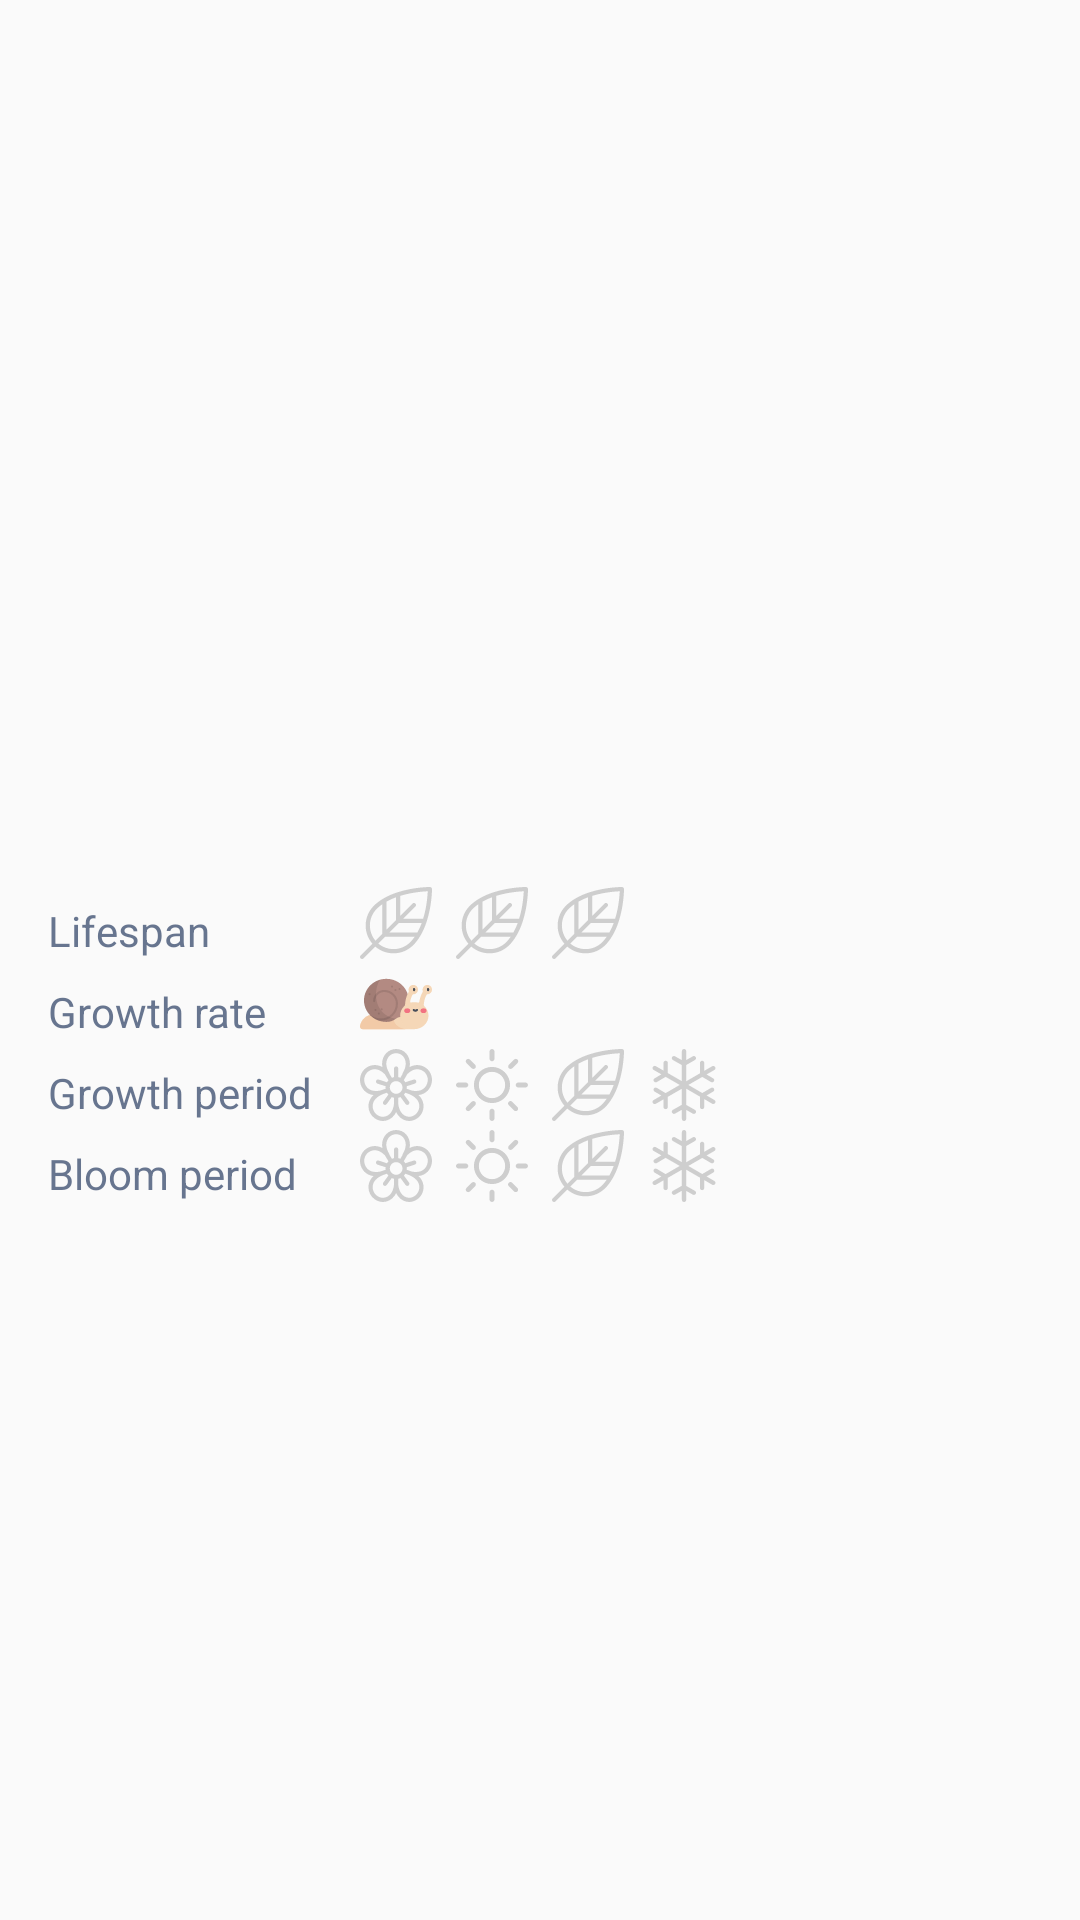

Where to tap for icons on this 1080w x 1920h app screen, as (x,y):
flower: (396,1085), (396,1166)
leaf: (396,923), (492,923), (588,923), (588,1085), (588,1166)
snail: (396,1004)
snowflake: (684,1085), (684,1166)
sun: (492,1085), (492,1166)
